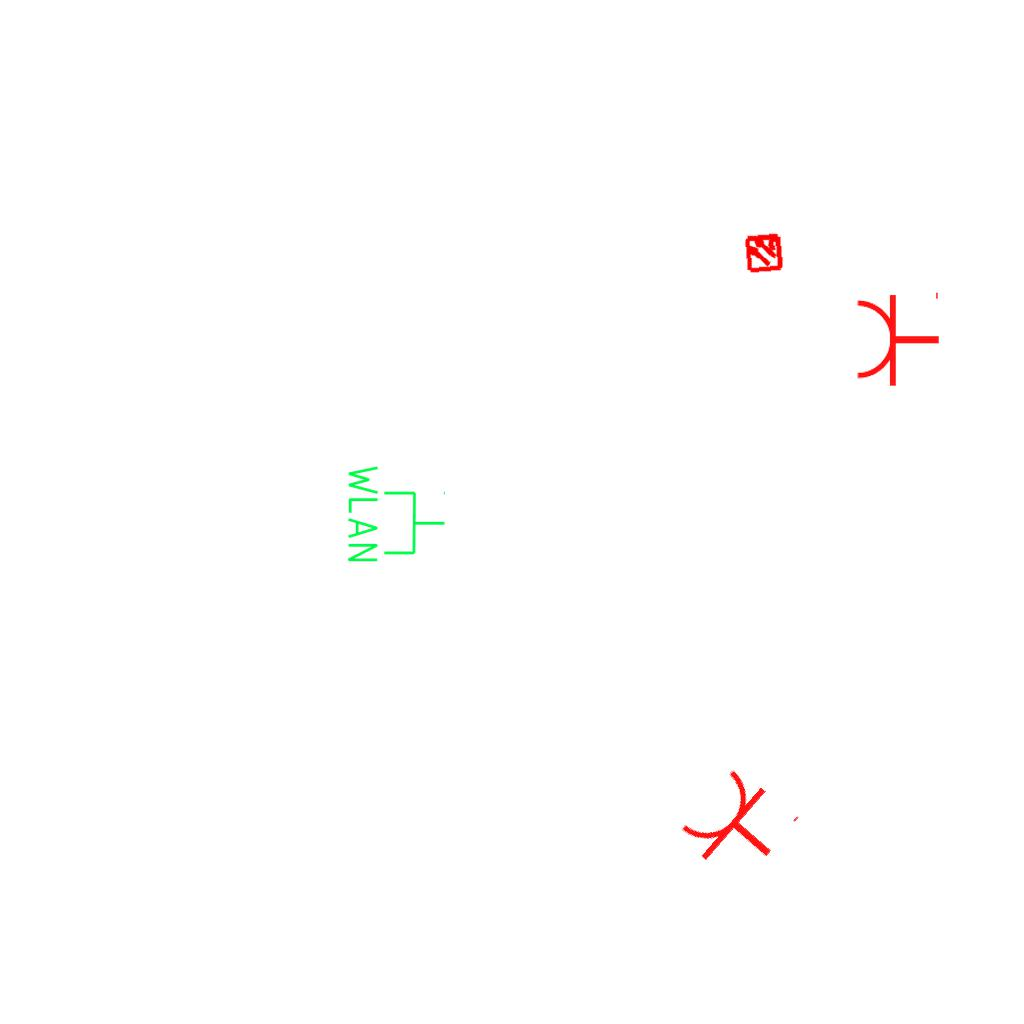OT_Multisensormelder_(Kombination_RMO_WMD): (733, 221, 795, 283)
Schukosteckdose_einfach: (672, 758, 805, 892), (854, 288, 941, 388)
WLAN: (344, 461, 448, 566)
